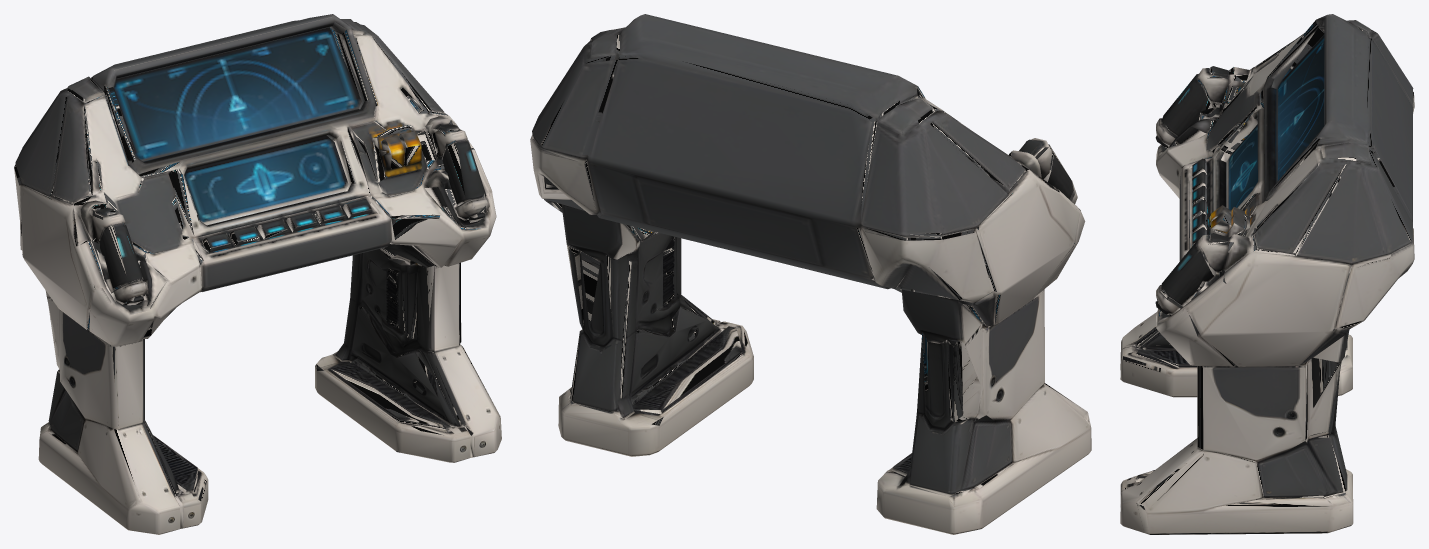
Rendered from main-console.glb.
3 views of the same model, side by side, from view 1: azimuth 30°, elevation 25°; view 2: azimuth 150°, elevation 25°; view 3: azimuth 270°, elevation 25° (orthographic). The views are drawn at different scales.
Visible parts, largest first — view 1: main-console; view 2: main-console; view 3: main-console.
Boxes of the visible parts, x1,y1,x2,y2 form: main-console: (14, 14, 501, 534); main-console: (530, 14, 1091, 534); main-console: (1120, 14, 1414, 534).
Size of the model in its own units: 0.8631 by 0.7739 by 0.5491.
1 material, 1 textured.
